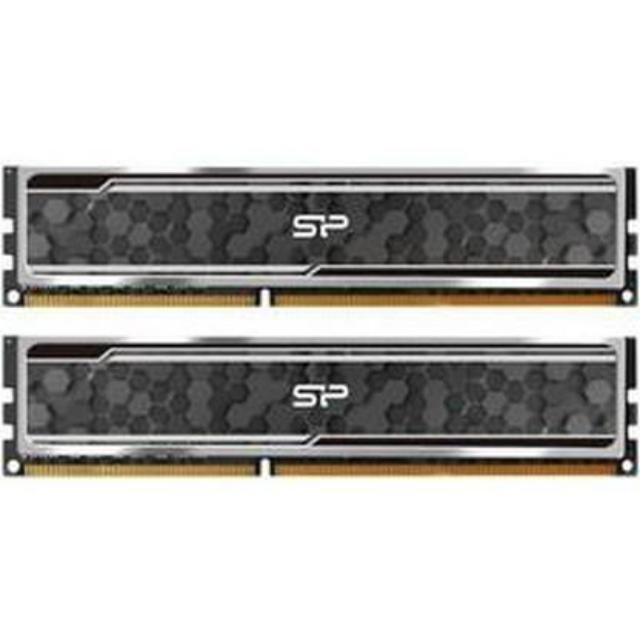RAM: (0, 155, 640, 313), (0, 330, 638, 484)
